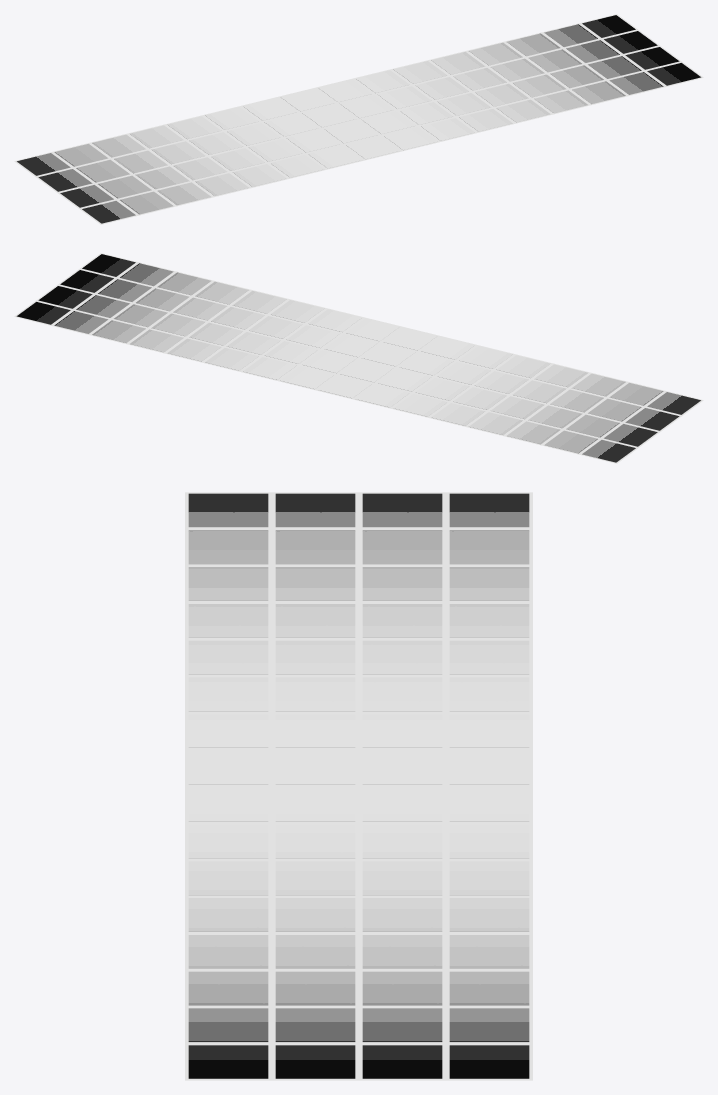
The model's file is bars.glb.
3 views of the same model, one above another, from view 1: azimuth 30°, elevation 25°; view 2: azimuth 150°, elevation 25°; view 3: azimuth 270°, elevation 25° (orthographic). The views are drawn at different scales.
Parts seen in each view (by area): view 1: bars; view 2: bars; view 3: bars.
Part boxes in pixels (bbox=[...]): bars: bbox=[14, 14, 703, 224]; bars: bbox=[14, 253, 703, 463]; bars: bbox=[185, 492, 532, 1080].
Size of the model in its own units: 4 by 0.00107 by 1.
1 material, 1 textured.
